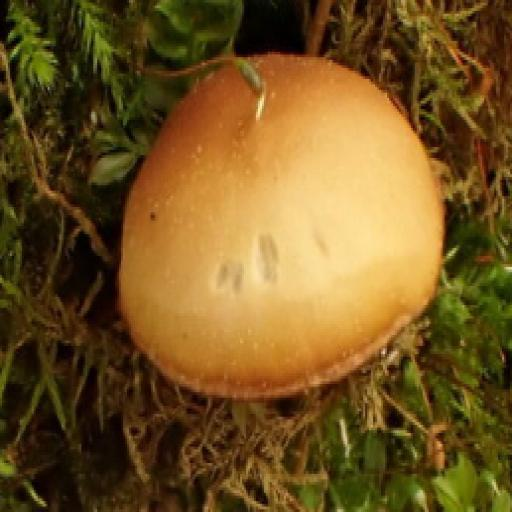mushroom: (109, 38, 452, 413)
